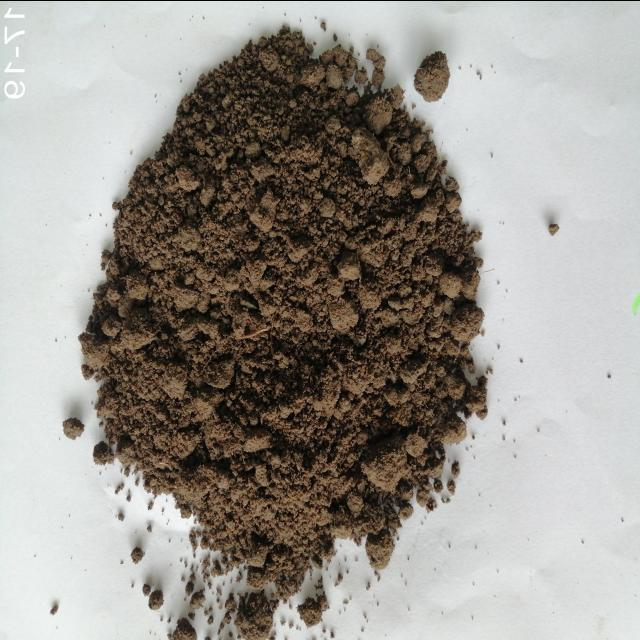soil: (144, 170, 414, 494)
